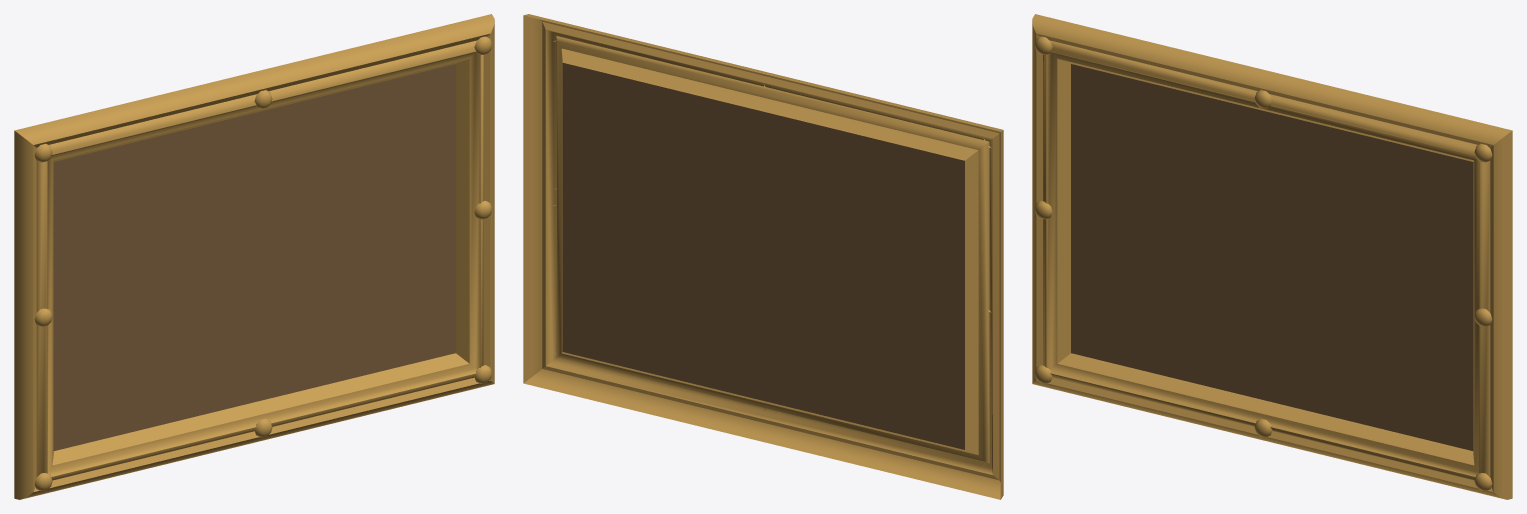
The model's file is frame_1_6x1_1.glb.
3 views of the same model, side by side, from view 1: azimuth 30°, elevation 25°; view 2: azimuth 150°, elevation 25°; view 3: azimuth 330°, elevation 25° (orthographic).
Parts seen in each view (by area): view 1: frame_1_6x1_1_canvas, frame_1_6x1_1_frame; view 2: frame_1_6x1_1_canvas, frame_1_6x1_1_frame; view 3: frame_1_6x1_1_canvas, frame_1_6x1_1_frame.
Part boxes in pixels (bbox=[...]): frame_1_6x1_1_canvas: bbox=[53, 64, 455, 450]; frame_1_6x1_1_frame: bbox=[14, 14, 494, 499]; frame_1_6x1_1_canvas: bbox=[562, 63, 964, 449]; frame_1_6x1_1_frame: bbox=[523, 14, 1003, 499]; frame_1_6x1_1_canvas: bbox=[1071, 64, 1473, 450]; frame_1_6x1_1_frame: bbox=[1032, 14, 1512, 499].
Bounding box in the file's own units: 1.9 × 1.4 × 0.093.
